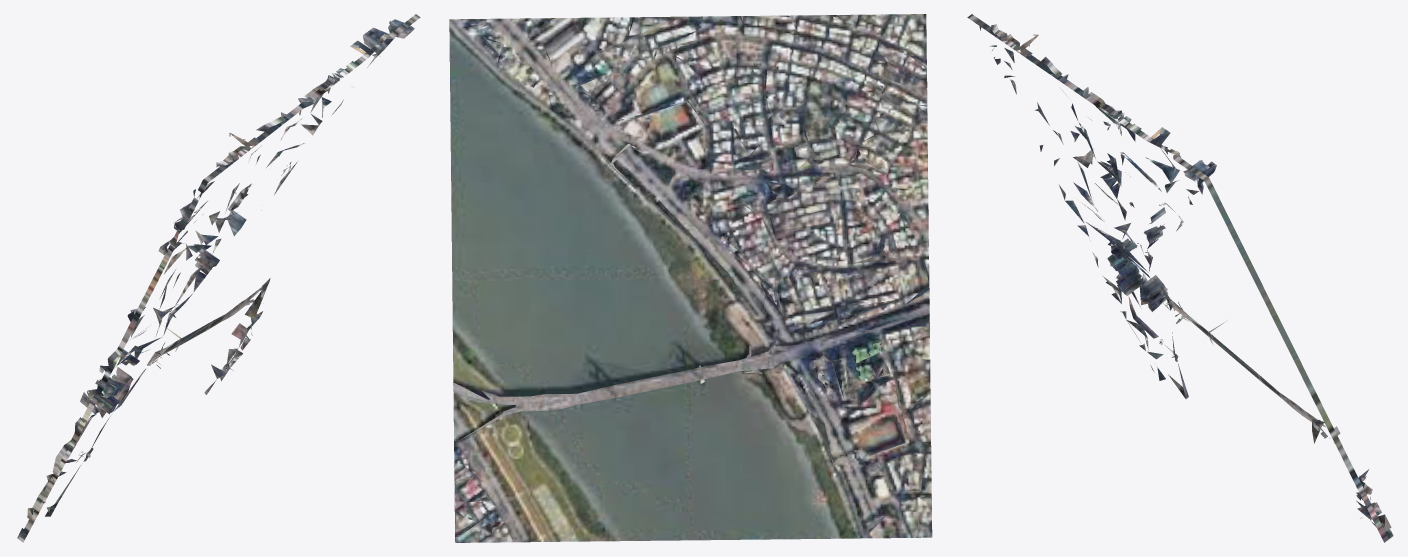
3 renders of one model, left to right at view 1: azimuth 30°, elevation 25°; view 2: azimuth 150°, elevation 25°; view 3: azimuth 270°, elevation 25°, orthographic. The views are drawn at different scales.
Bounding box in the file's own units: 1240 × 1132 × 1043.
1 material, 1 textured.
